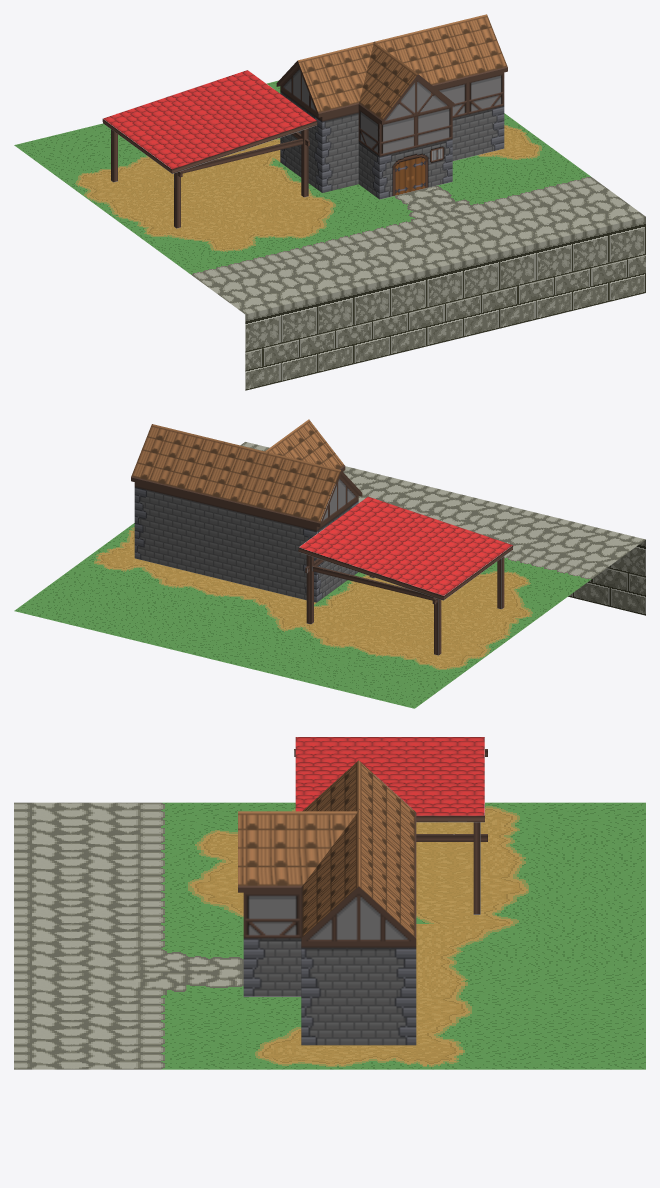
File: Blacksmith_1.fbx
3 renders of one model, top to bottom at view 1: azimuth 30°, elevation 25°; view 2: azimuth 150°, elevation 25°; view 3: azimuth 270°, elevation 25°, orthographic. The views are drawn at different scales.
Visible parts, largest first — view 1: Blacksmith_1_Building, Blacksmith_1_Building_Smith, Terrain_Cube_Set_L_Front.017, Terrain_Cube_Set_L_Front.012, Terrain_Cube_Set_L_Front.011, Terrain_Cube_Set_L_Front.018, Terrain_Cube_Set_L_Front.016, Terrain_Cube_Set_L_Front.020, Terrain_Cube_Set_L_Front.013, Terrain_Cube_Set_L_Front.014, Terrain_Cube_Set_L_Front.015, Terrain_Cube_Set_L_Front.021 (+74 smaller); view 2: Blacksmith_1_Building, Blacksmith_1_Building_Smith, Terrain_Cube_Set_L_Front.018, Terrain_Cube_Side.018, Terrain_Cube_Side.017, Terrain_Cube_Set_L_Front.017, Terrain_Cube_Top.094, Terrain_Cube_Top.126, Terrain_Cube_Top.151, Terrain_Cube_Top.165, Terrain_Cube_Top.125, Terrain_Cube_Top.129 (+65 smaller); view 3: Blacksmith_1_Building, Blacksmith_1_Building_Smith, Terrain_Cube_Top.120, Terrain_Cube_Top.122, Terrain_Cube_Top.119, Terrain_Cube_Top.160, Terrain_Cube_Top.082, Terrain_Cube_Top.084, Terrain_Cube_Set_L_Front.012, Terrain_Cube_Top.085, Terrain_Cube_Top.086, Terrain_Cube_Top.088 (+82 smaller).
Part boxes in pixels (x1=…): Blacksmith_1_Building: x1=276, y1=14, x2=507, y2=199; Blacksmith_1_Building_Smith: x1=102, y1=70, x2=317, y2=228; Terrain_Cube_Set_L_Front.017: x1=261, y1=281, x2=318, y2=343; Terrain_Cube_Set_L_Front.012: x1=443, y1=237, x2=500, y2=299; Terrain_Cube_Set_L_Front.011: x1=480, y1=228, x2=536, y2=290; Terrain_Cube_Set_L_Front.018: x1=224, y1=290, x2=281, y2=352; Terrain_Cube_Set_L_Front.016: x1=297, y1=272, x2=354, y2=334; Terrain_Cube_Set_L_Front.020: x1=589, y1=201, x2=645, y2=263; Terrain_Cube_Set_L_Front.013: x1=407, y1=246, x2=463, y2=307; Terrain_Cube_Set_L_Front.014: x1=370, y1=254, x2=427, y2=316; Terrain_Cube_Set_L_Front.015: x1=334, y1=263, x2=390, y2=325; Terrain_Cube_Set_L_Front.021: x1=552, y1=210, x2=609, y2=272; Blacksmith_1_Building: x1=131, y1=419, x2=362, y2=602; Blacksmith_1_Building_Smith: x1=298, y1=496, x2=513, y2=655; Terrain_Cube_Set_L_Front.018: x1=589, y1=530, x2=645, y2=577; Terrain_Cube_Side.018: x1=609, y1=569, x2=645, y2=615; Terrain_Cube_Side.017: x1=573, y1=568, x2=609, y2=606; Terrain_Cube_Set_L_Front.017: x1=552, y1=521, x2=609, y2=568; Terrain_Cube_Top.094: x1=531, y1=537, x2=587, y2=561; Terrain_Cube_Top.126: x1=186, y1=576, x2=243, y2=600; Terrain_Cube_Top.151: x1=317, y1=587, x2=373, y2=611; Terrain_Cube_Top.165: x1=326, y1=651, x2=383, y2=675; Terrain_Cube_Top.125: x1=150, y1=567, x2=206, y2=591; Terrain_Cube_Top.129: x1=238, y1=609, x2=295, y2=633; Blacksmith_1_Building: x1=238, y1=760, x2=416, y2=1045; Blacksmith_1_Building_Smith: x1=294, y1=737, x2=487, y2=914; Terrain_Cube_Top.120: x1=243, y1=1045, x2=301, y2=1069; Terrain_Cube_Top.122: x1=358, y1=1045, x2=416, y2=1069; Terrain_Cube_Top.119: x1=243, y1=1021, x2=301, y2=1045; Terrain_Cube_Top.160: x1=243, y1=997, x2=301, y2=1021; Terrain_Cube_Top.082: x1=71, y1=972, x2=128, y2=996; Terrain_Cube_Top.084: x1=71, y1=948, x2=128, y2=972; Terrain_Cube_Set_L_Front.012: x1=14, y1=948, x2=71, y2=972; Terrain_Cube_Top.085: x1=129, y1=948, x2=186, y2=972; Terrain_Cube_Top.086: x1=71, y1=924, x2=128, y2=948; Terrain_Cube_Top.088: x1=71, y1=899, x2=128, y2=923.
Size of the model in its own units: 2200 by 1020 by 2200.
